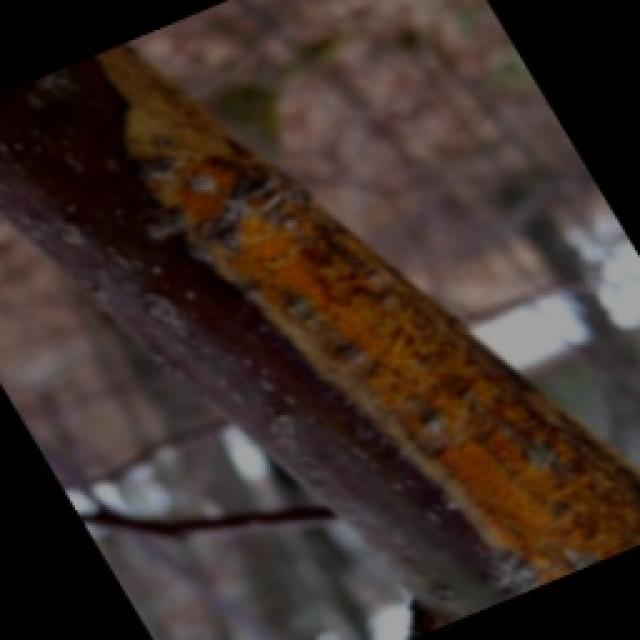Golden_canker: (92, 37, 638, 595)
